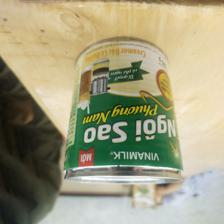NSPN_Lon: (63, 38, 185, 193)
